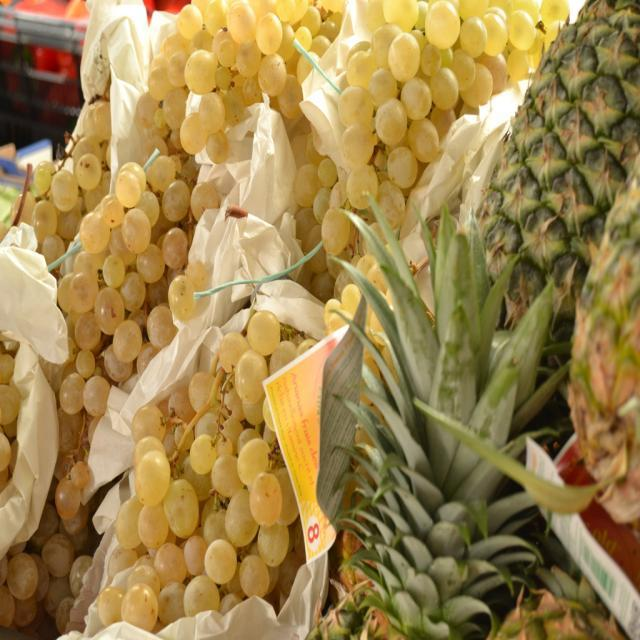Pineapple: (326, 0, 640, 639), (567, 151, 639, 531), (494, 560, 624, 640)
